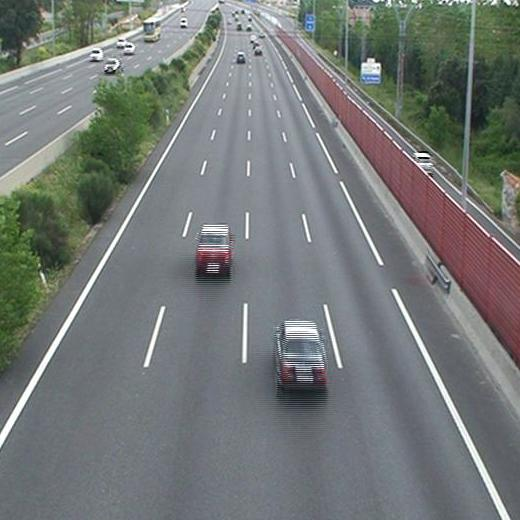car: (275, 322, 325, 387), (195, 226, 232, 274), (235, 52, 244, 61)
